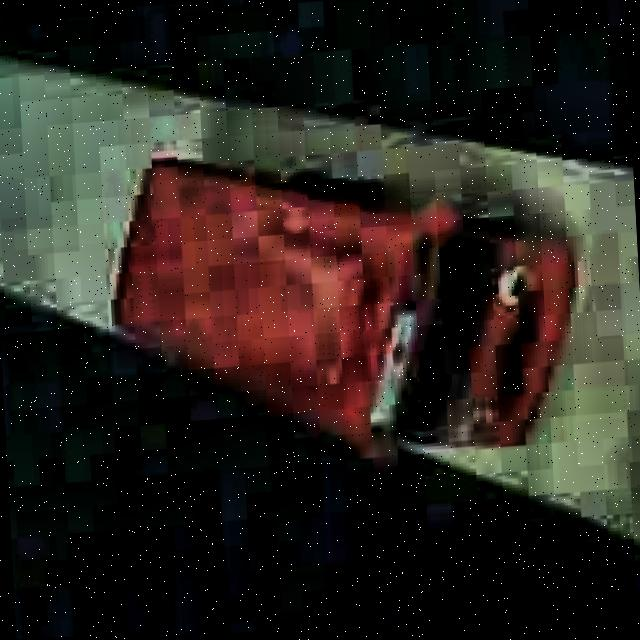bus: (103, 117, 590, 483)
